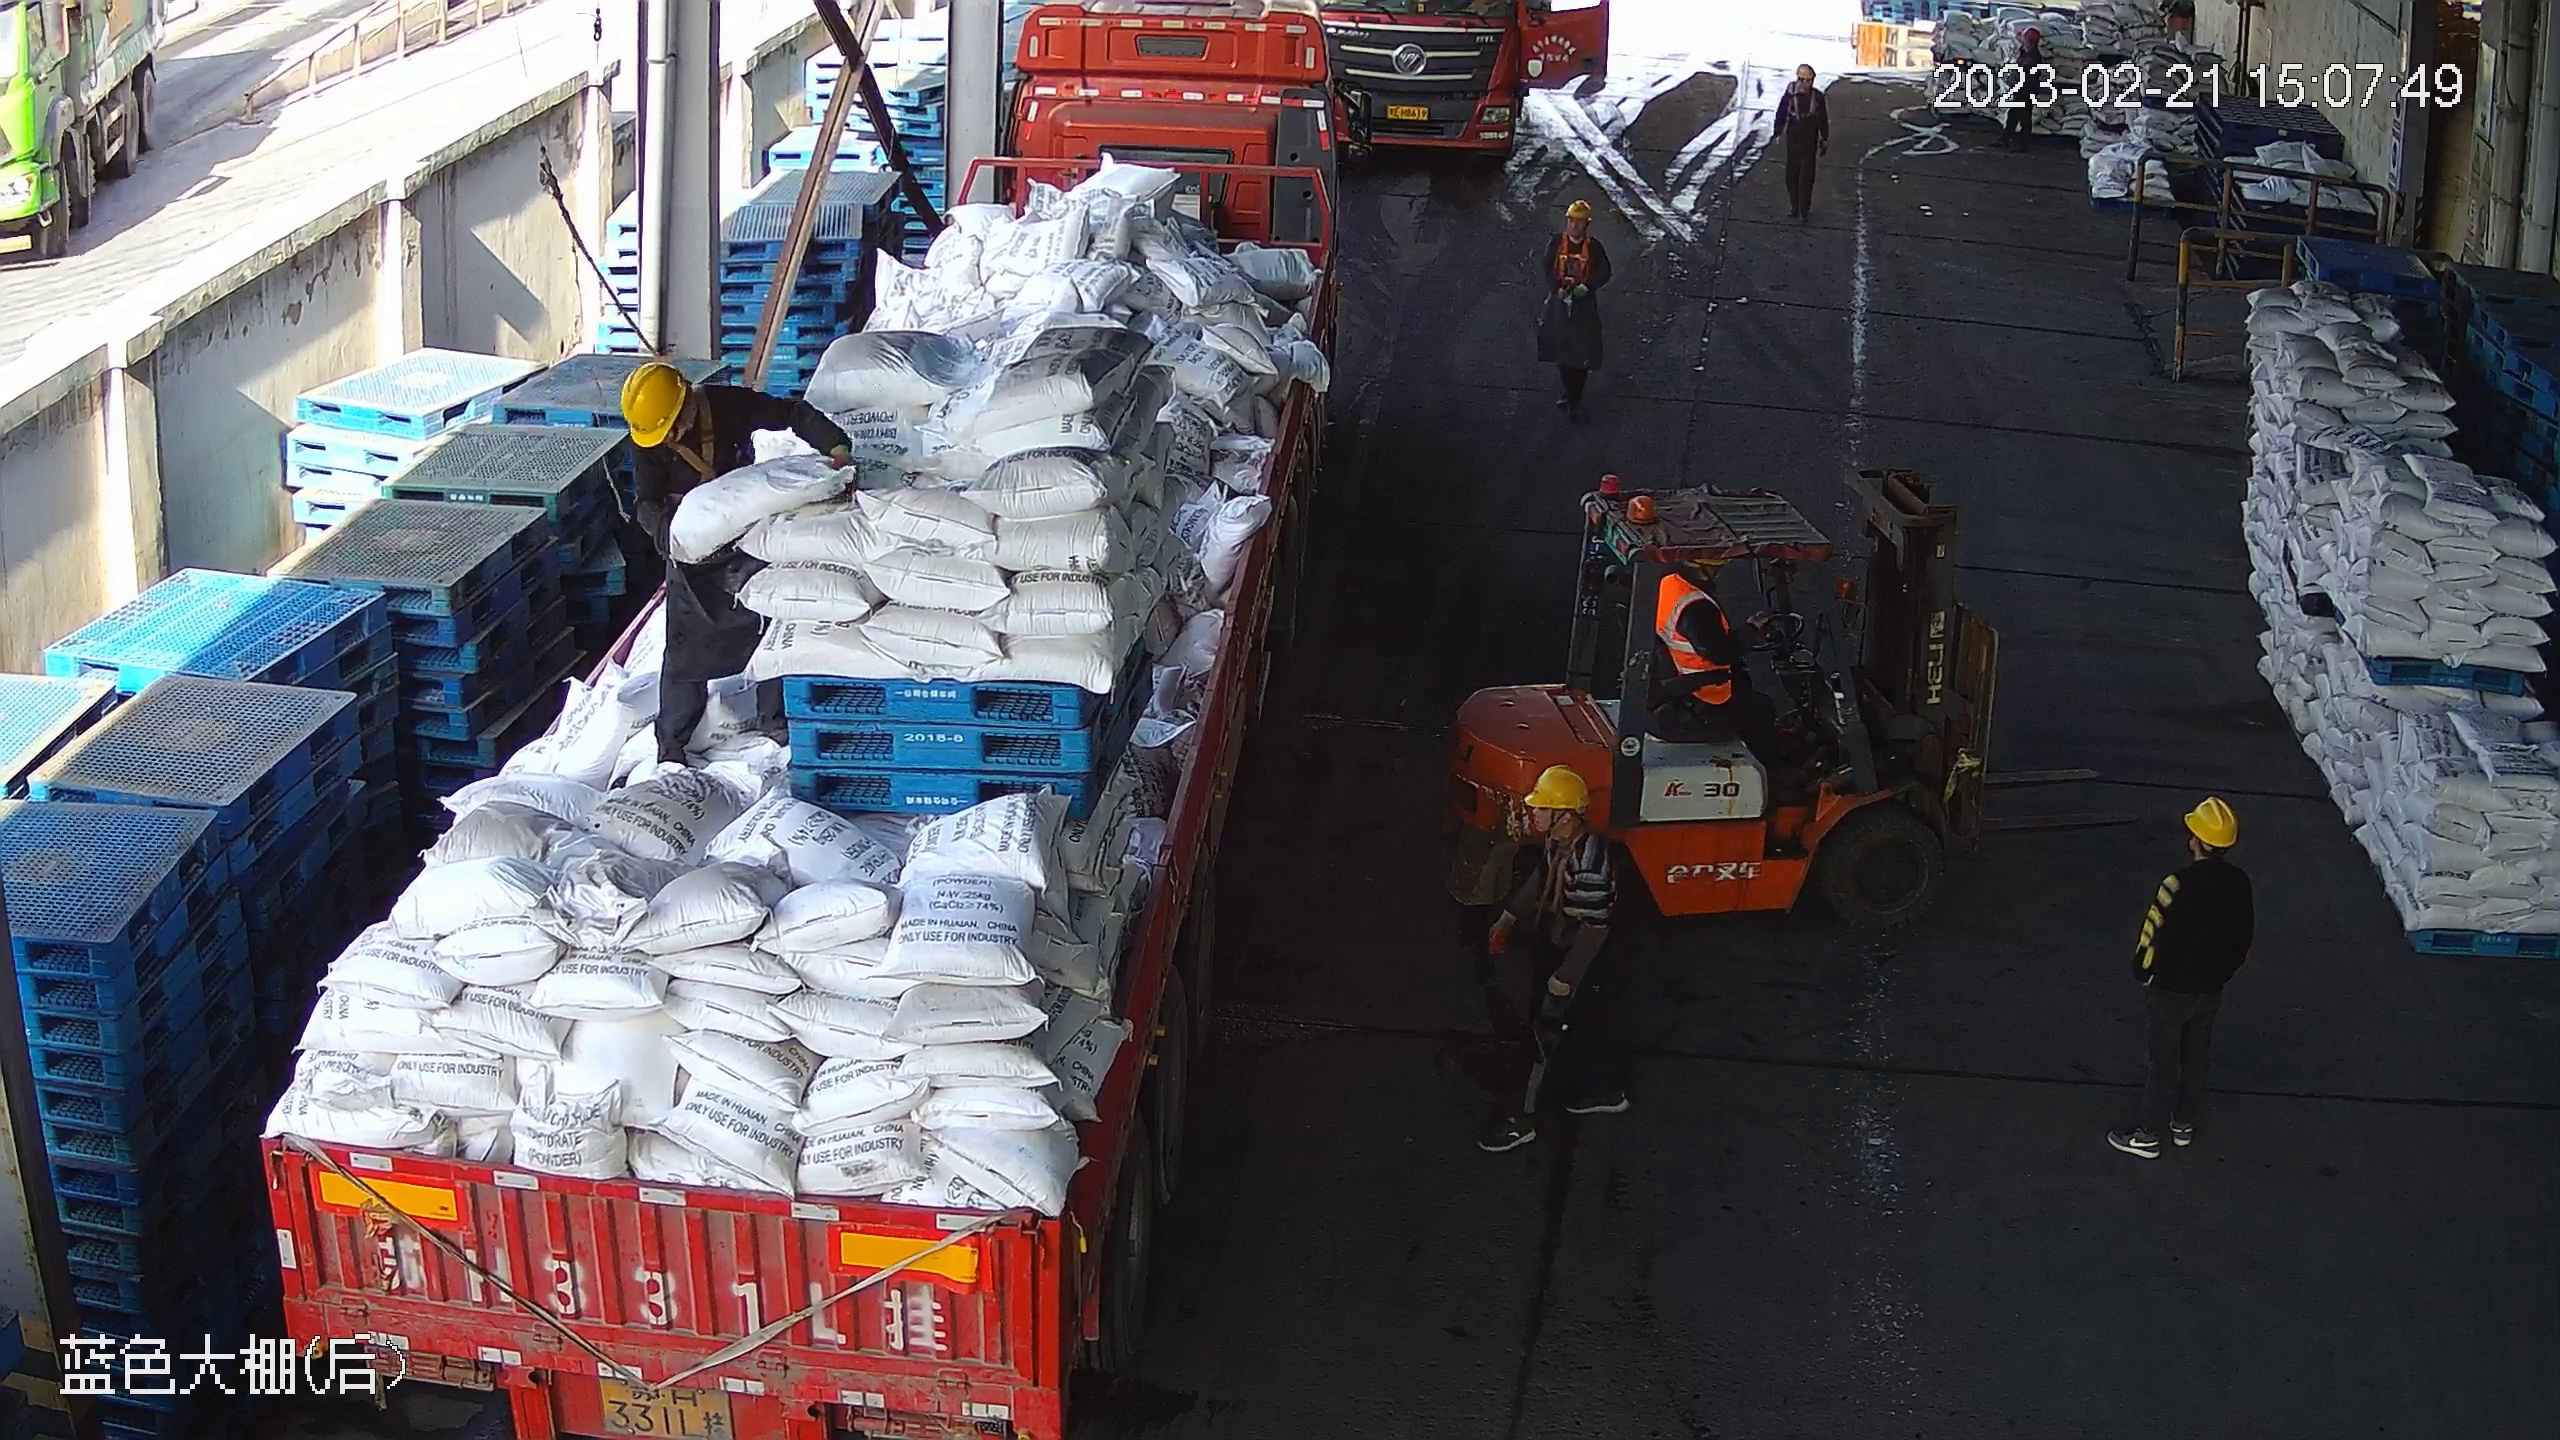belt: (651, 384, 747, 519)
head: (619, 360, 776, 462), (2156, 794, 2255, 902), (1523, 763, 1616, 878), (1659, 555, 1733, 617), (1545, 198, 1607, 256)
helmet: (620, 360, 691, 450), (2182, 795, 2239, 849), (1523, 764, 1590, 811), (1565, 199, 1592, 220)
people: (620, 358, 856, 779), (1472, 763, 1633, 1156), (2102, 793, 2257, 1160), (1647, 556, 1782, 805), (1535, 198, 1616, 417)
truck: (249, 1, 1343, 1437)
